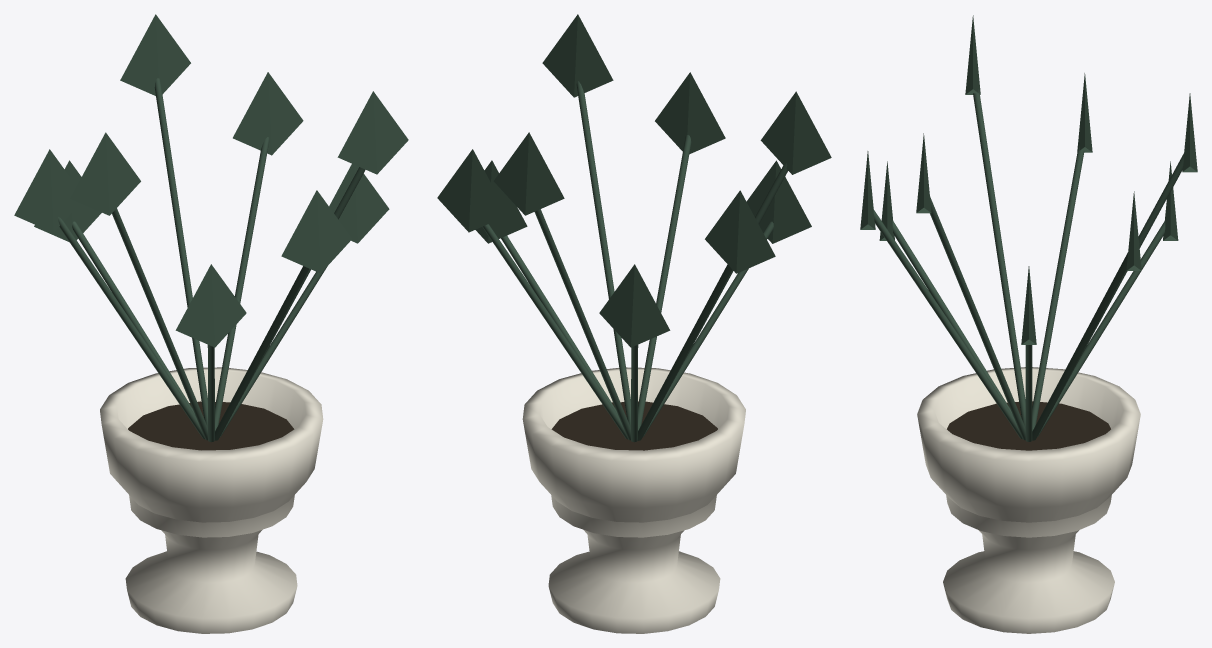
Rendered from rpg-mansion-planter-01.glb.
3 renders of one model, left to right at view 1: azimuth 30°, elevation 25°; view 2: azimuth 150°, elevation 25°; view 3: azimuth 270°, elevation 25°, orthographic.
Parts seen in each view (by area): view 1: rpg-mansion-planter-01; view 2: rpg-mansion-planter-01; view 3: rpg-mansion-planter-01.
Boxes of the visible parts, bbox=[...] form: rpg-mansion-planter-01: bbox=[14, 14, 408, 633]; rpg-mansion-planter-01: bbox=[437, 14, 831, 633]; rpg-mansion-planter-01: bbox=[860, 15, 1197, 633].
Bounding box in the file's own units: 0.95 × 1.36 × 0.8.
